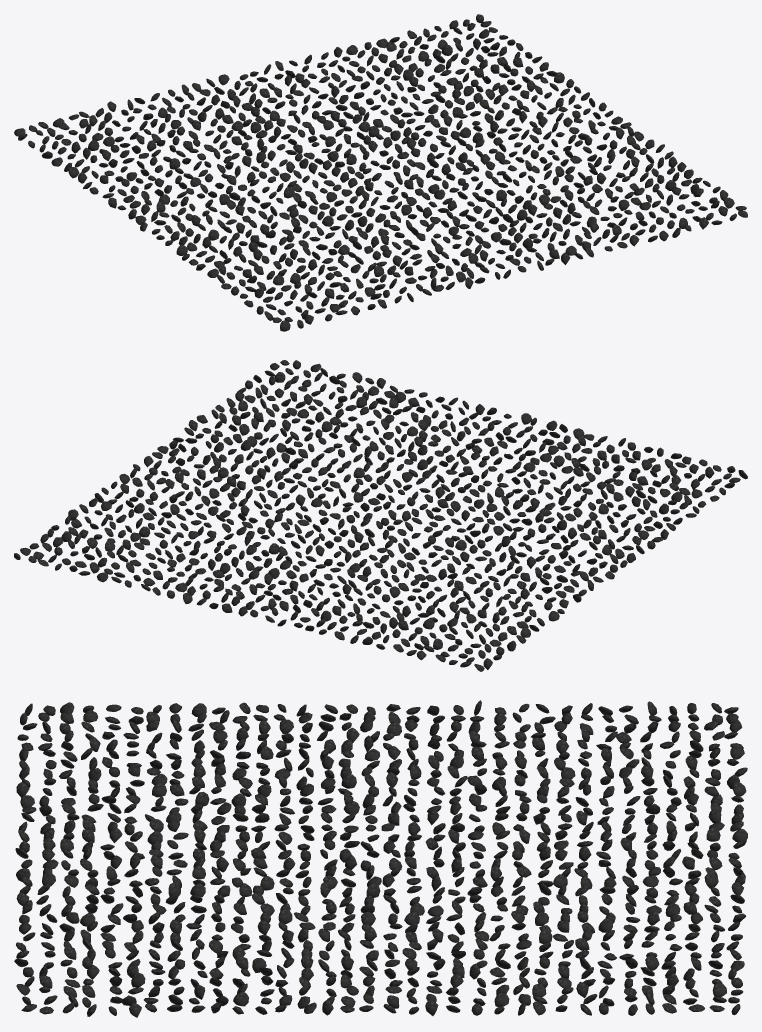
The model's file is PAV-ASF-003_anim.glb.
The picture shows the model from 3 angles, top to bottom: view 1: azimuth 30°, elevation 25°; view 2: azimuth 150°, elevation 25°; view 3: azimuth 270°, elevation 25°; orthographic projection. The views are drawn at different scales.
Parts seen in each view (by area): view 1: PAV-ASF-003_anim1; view 2: PAV-ASF-003_anim1; view 3: PAV-ASF-003_anim1.
Boxes of the visible parts, x1=… form: PAV-ASF-003_anim1: x1=14, y1=14, x2=747, y2=331; PAV-ASF-003_anim1: x1=14, y1=360, x2=747, y2=671; PAV-ASF-003_anim1: x1=14, y1=700, x2=747, y2=1017.
Size of what is drawn, in the model's own units: 0.000999 by 2.17e-05 by 0.001.
1 material, 1 textured.
